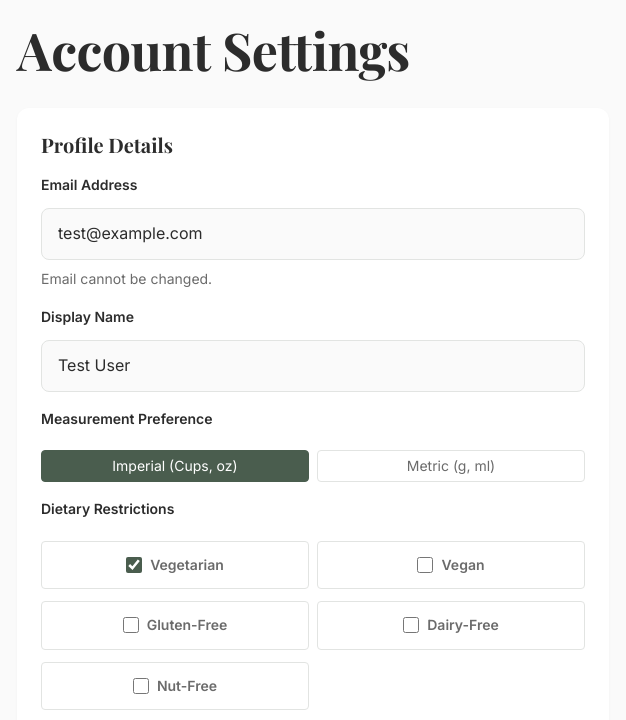
Test: Settings Page › successfully saves profile changes
Replace the text in the field labelled "Display Name" with "Updated Name": (313, 366) [41,340,585,392]
(page scrolled)
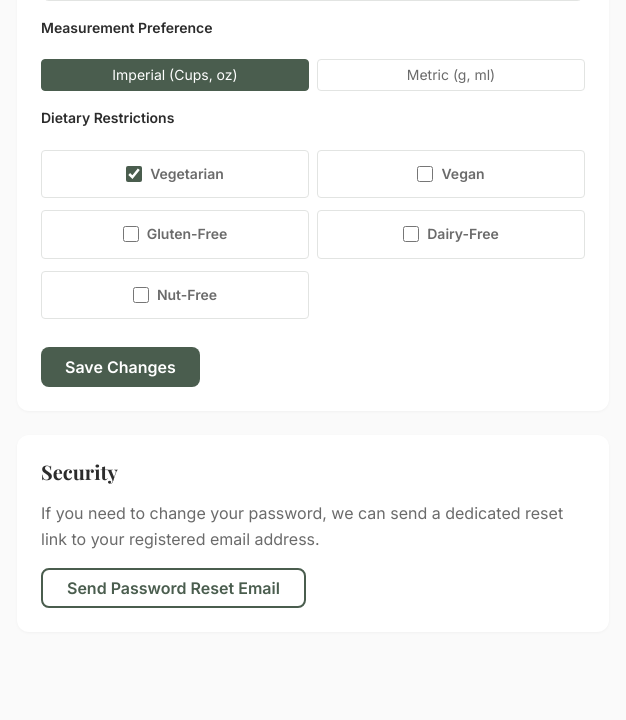
Click the button "Save Changes": (120, 367) [41,347,200,387]
(page scrolled)
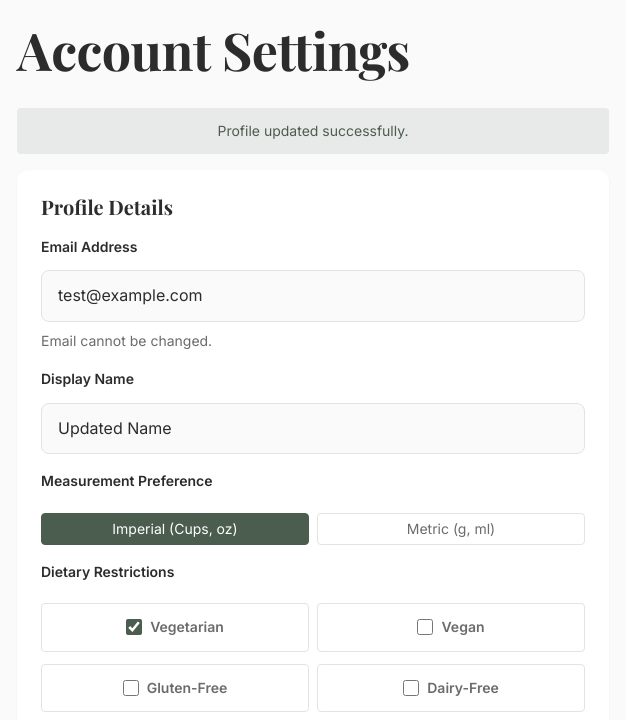
Now the text "Profile updated successfully." is shown, box [17,108,609,154]
